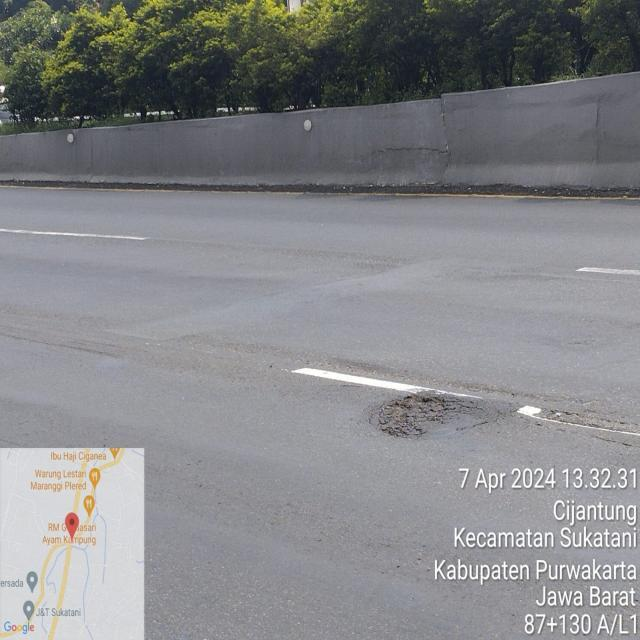Buraco: (366, 388, 451, 441)
